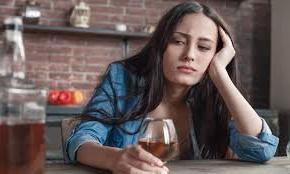Drunk: (167, 16, 214, 83)
